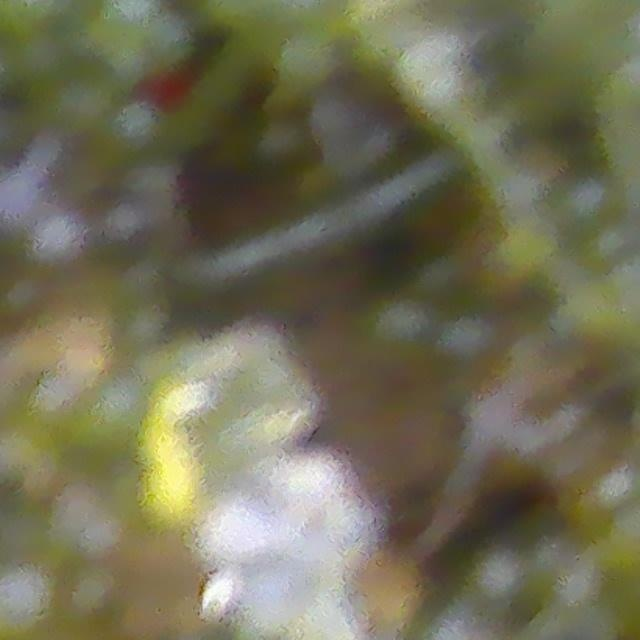SeaGrape: (270, 450, 346, 529), (238, 548, 314, 626), (201, 497, 262, 556)
